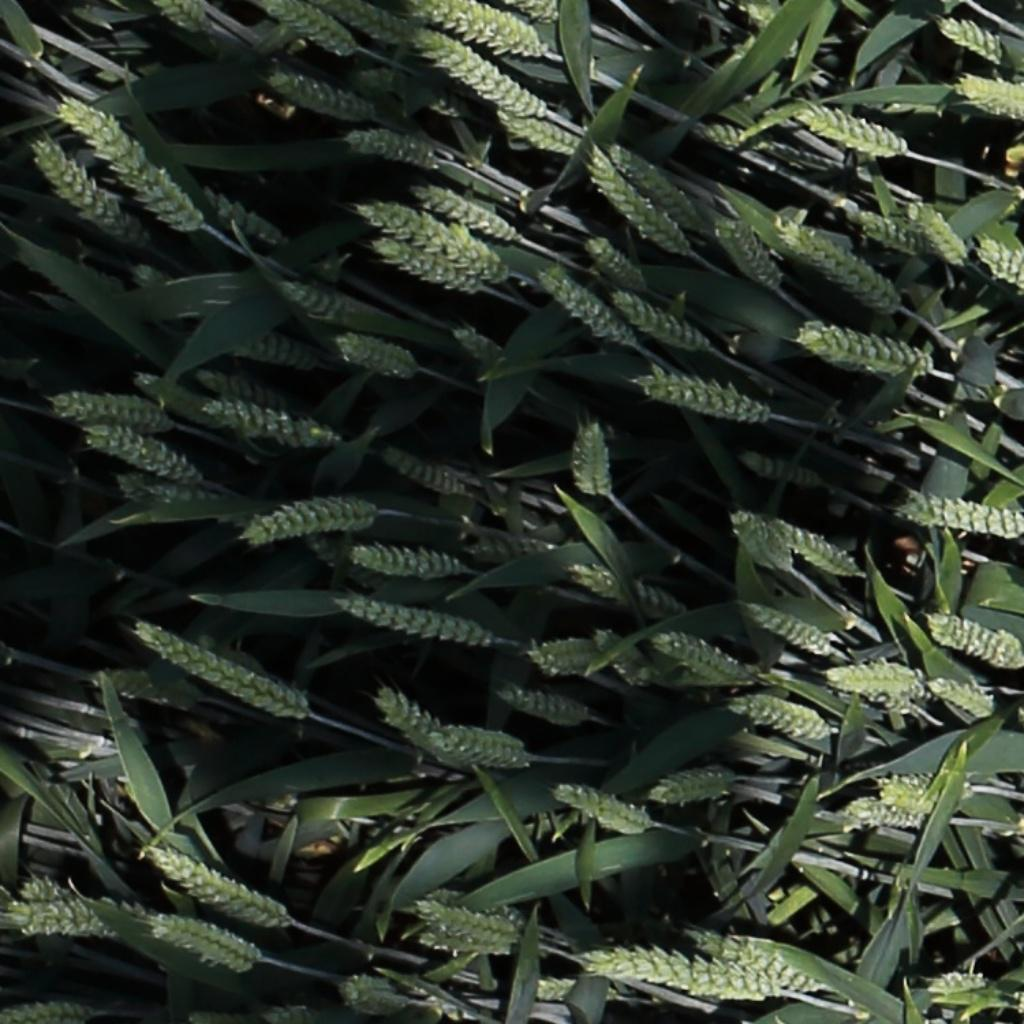0-0: (128, 620, 313, 724), (137, 842, 297, 930), (354, 200, 513, 283), (573, 943, 790, 1003), (623, 361, 787, 437), (367, 683, 517, 765), (30, 137, 140, 243), (122, 898, 268, 973), (585, 148, 684, 255), (419, 28, 542, 114), (779, 221, 898, 307), (103, 463, 236, 531), (895, 485, 1024, 552), (234, 496, 387, 552), (606, 137, 701, 222), (794, 103, 919, 164), (364, 235, 486, 296), (536, 266, 630, 345), (696, 931, 817, 992), (334, 598, 490, 645), (441, 315, 537, 391), (582, 618, 674, 691), (81, 427, 199, 483), (610, 286, 708, 350), (421, 1, 539, 54), (54, 96, 143, 166), (406, 927, 554, 969), (416, 881, 538, 930), (457, 531, 595, 573), (795, 327, 928, 368), (716, 210, 782, 292), (419, 182, 516, 237), (765, 520, 860, 576), (407, 899, 529, 942), (263, 68, 371, 116), (263, 0, 352, 57), (947, 69, 1024, 134), (203, 401, 322, 443), (906, 195, 972, 270), (927, 615, 1024, 666), (742, 603, 831, 656), (652, 633, 748, 682), (133, 161, 202, 229), (548, 782, 646, 829), (514, 633, 624, 674), (567, 414, 620, 498), (204, 188, 282, 245), (18, 871, 129, 911), (379, 445, 464, 496), (877, 772, 985, 812), (821, 661, 922, 703), (729, 510, 793, 576), (731, 697, 828, 740), (648, 764, 745, 807), (565, 565, 655, 610), (850, 206, 932, 255), (192, 368, 282, 412), (49, 394, 166, 427), (500, 976, 624, 1007), (581, 233, 645, 290), (498, 111, 584, 152), (9, 913, 118, 945), (324, 0, 410, 40), (415, 729, 522, 761), (277, 279, 360, 320), (346, 128, 436, 165), (334, 334, 415, 374), (495, 689, 587, 723), (937, 17, 1004, 62), (738, 453, 824, 488), (977, 238, 1024, 301), (349, 547, 458, 574), (845, 794, 925, 830), (332, 971, 413, 1006), (698, 122, 782, 154), (0, 999, 102, 1024), (927, 679, 995, 716), (230, 339, 315, 365), (629, 580, 684, 618), (159, 0, 207, 34), (513, 0, 557, 20)
